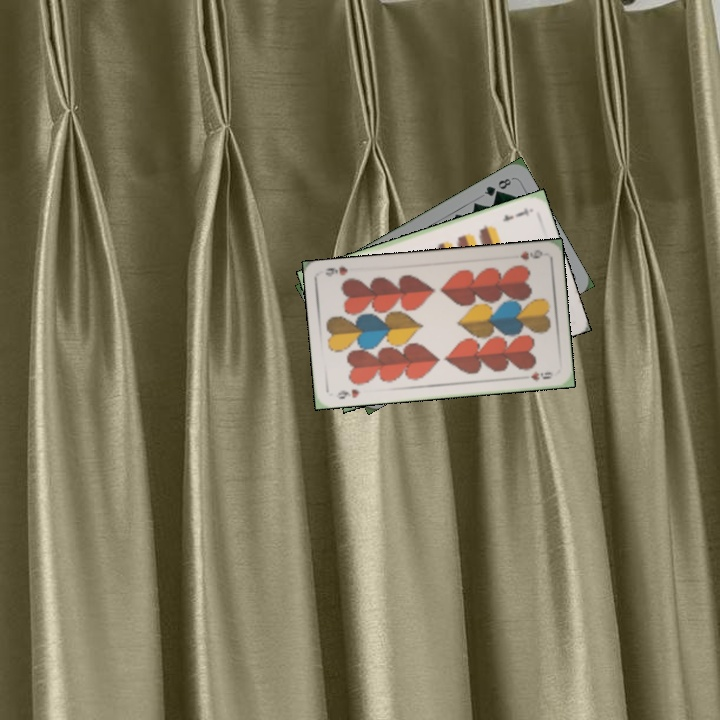E7: (498, 203, 531, 224)
G8: (480, 174, 515, 199)
H9: (516, 246, 545, 264), (332, 385, 363, 401)
